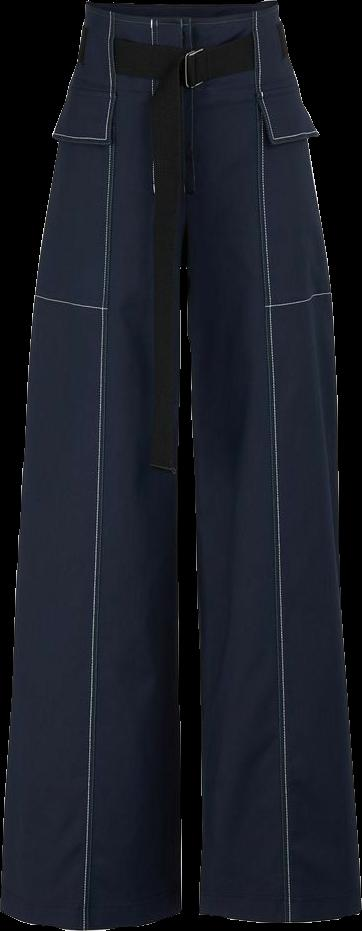Hemline: (1, 898, 185, 930), (199, 904, 361, 923)
Pantleg: (1, 0, 188, 930), (185, 2, 360, 923)
Waistline: (85, 0, 275, 22)
